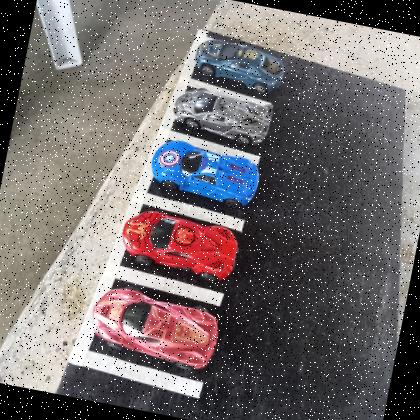Car: (86, 282, 224, 376), (117, 206, 242, 285), (145, 136, 263, 213), (168, 83, 274, 148), (189, 35, 288, 96)
